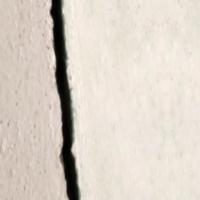crack: (34, 0, 130, 199)
